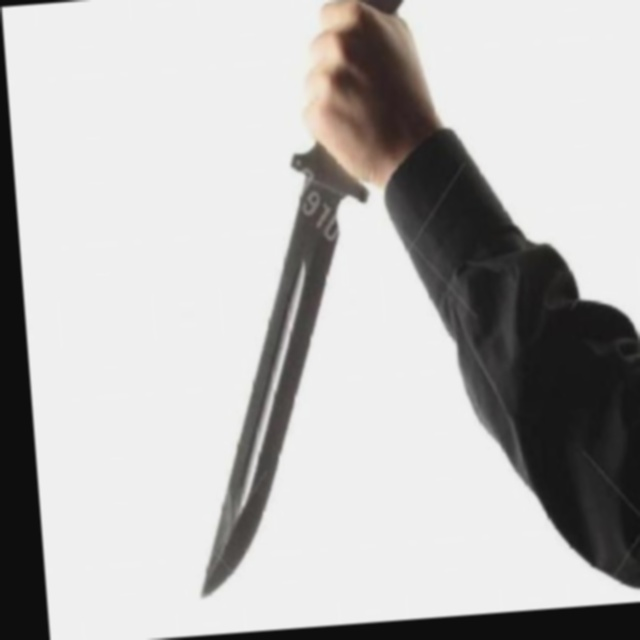Sharp-Object: (155, 0, 447, 601)
